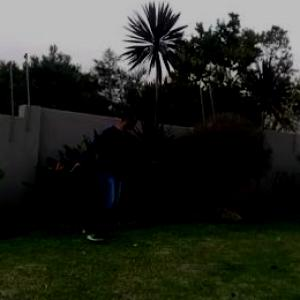land: (44, 93, 181, 262)
